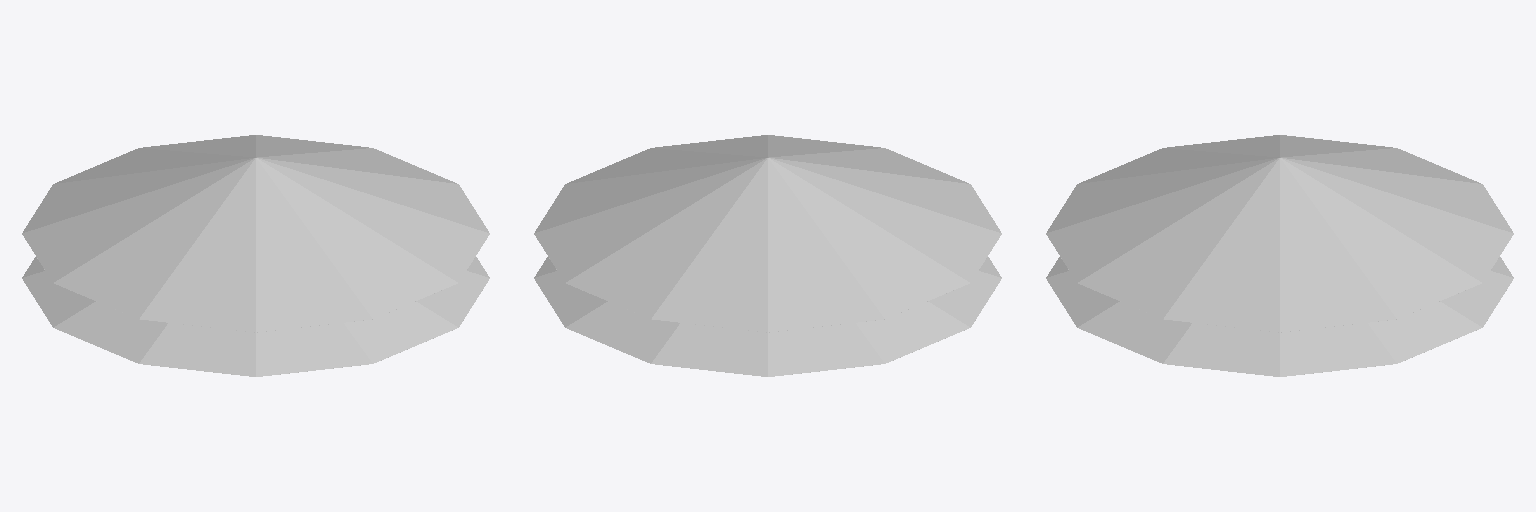
File: ufo.obj
3 renders of one model, left to right at view 1: azimuth 30°, elevation 25°; view 2: azimuth 150°, elevation 25°; view 3: azimuth 270°, elevation 25°, orthographic.
Parts seen in each view (by area): view 1: cone5; view 2: cone5; view 3: cone5.
Boxes of the visible parts, box(x1,y1,x2,y2) form: cone5: box(22, 135, 489, 376); cone5: box(534, 135, 1001, 376); cone5: box(1046, 135, 1513, 376).
Bounding box in the file's own units: 7.23 × 3.35 × 7.23.